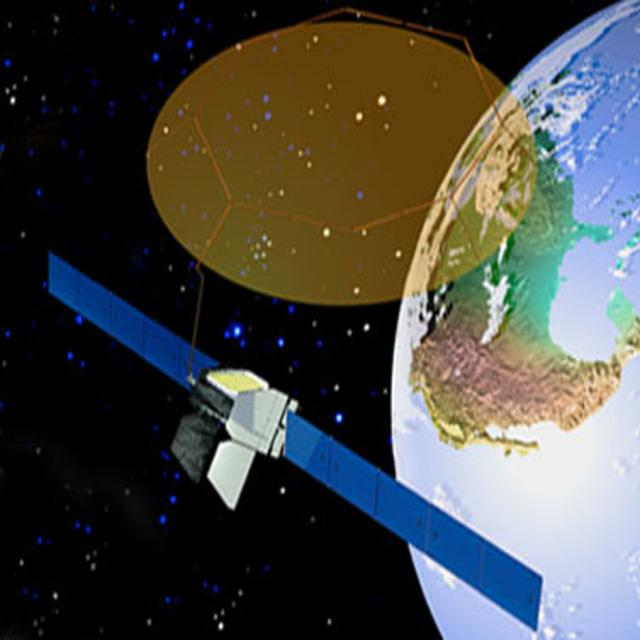medium_debris: (44, 239, 549, 628)
